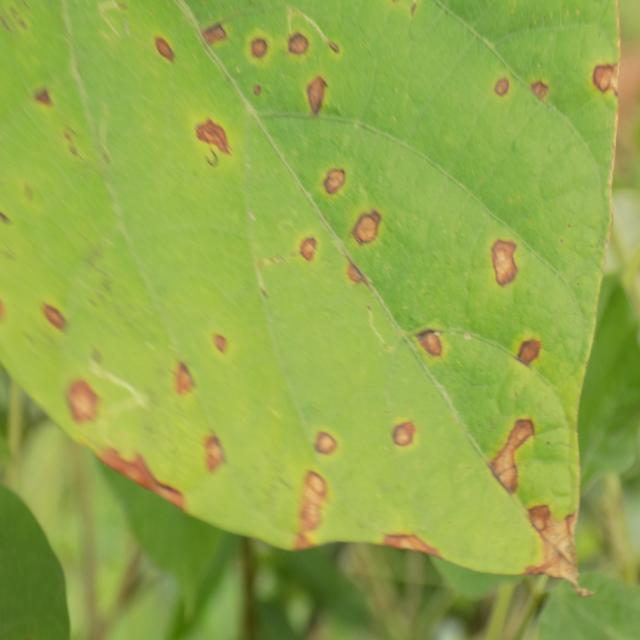Dolicos bean_cercospora leaf spot: (0, 0, 618, 585)
